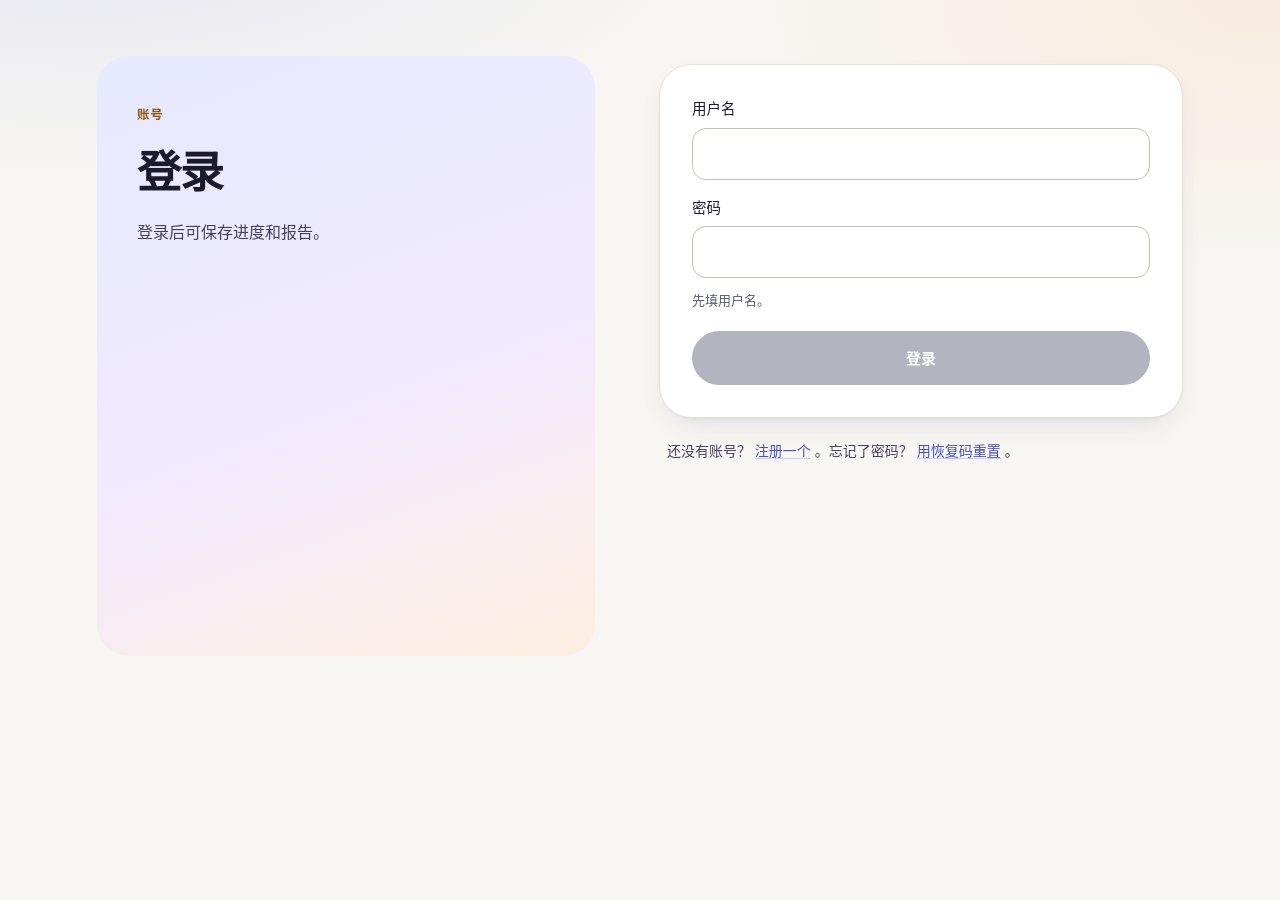
Test: 登录页 / 注册页 · 失败提示可见 › 登录失败：显示服务端口径的文案和报障编号，而且是一个真实渲染的提示块
The image size is (1280, 900).
Step 1. Type "someone" into the field named "username" → (921, 154), box [692,128,1150,180]
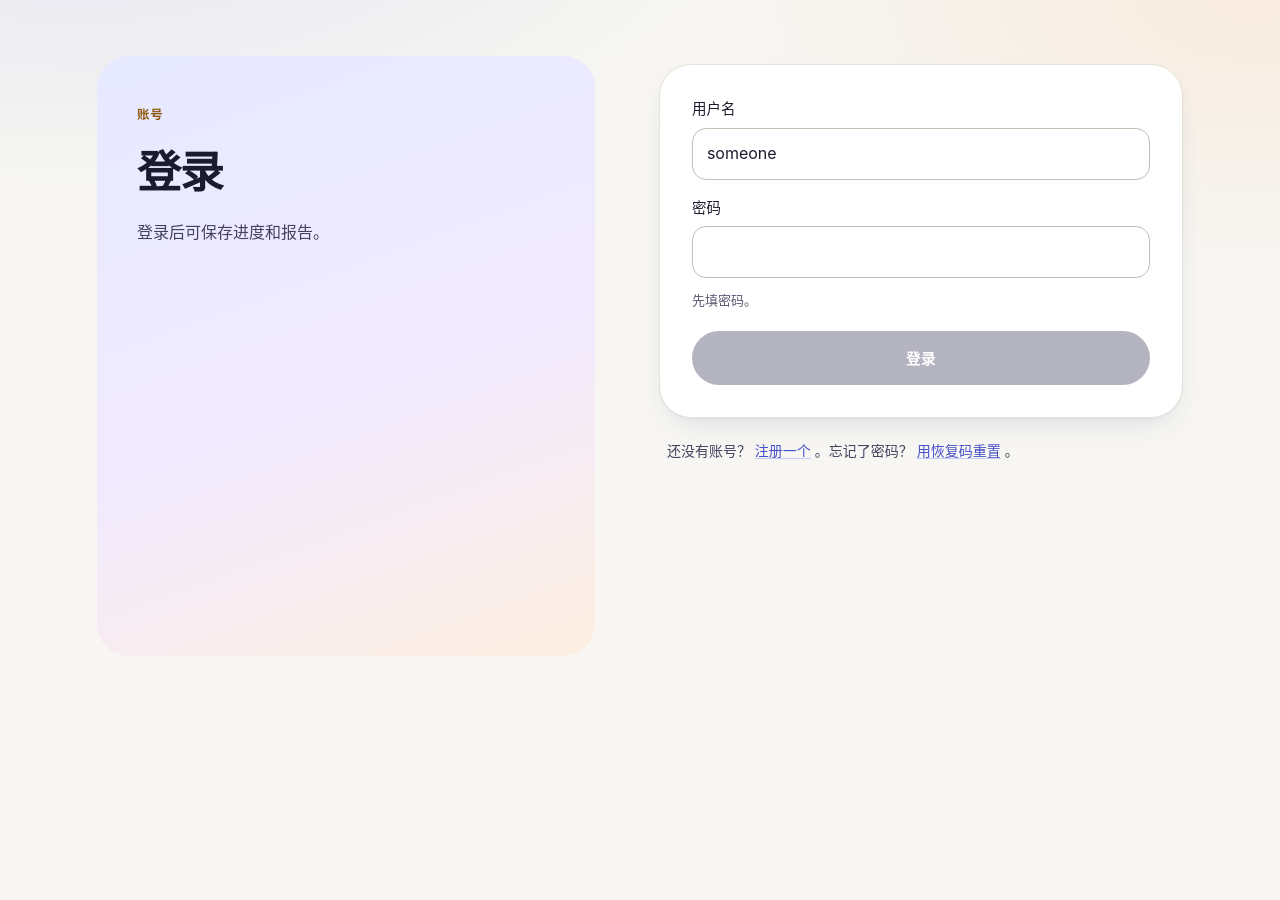
Step 2. Type "wrong-password" into the password field named "password" → (921, 252), box [692,226,1150,278]
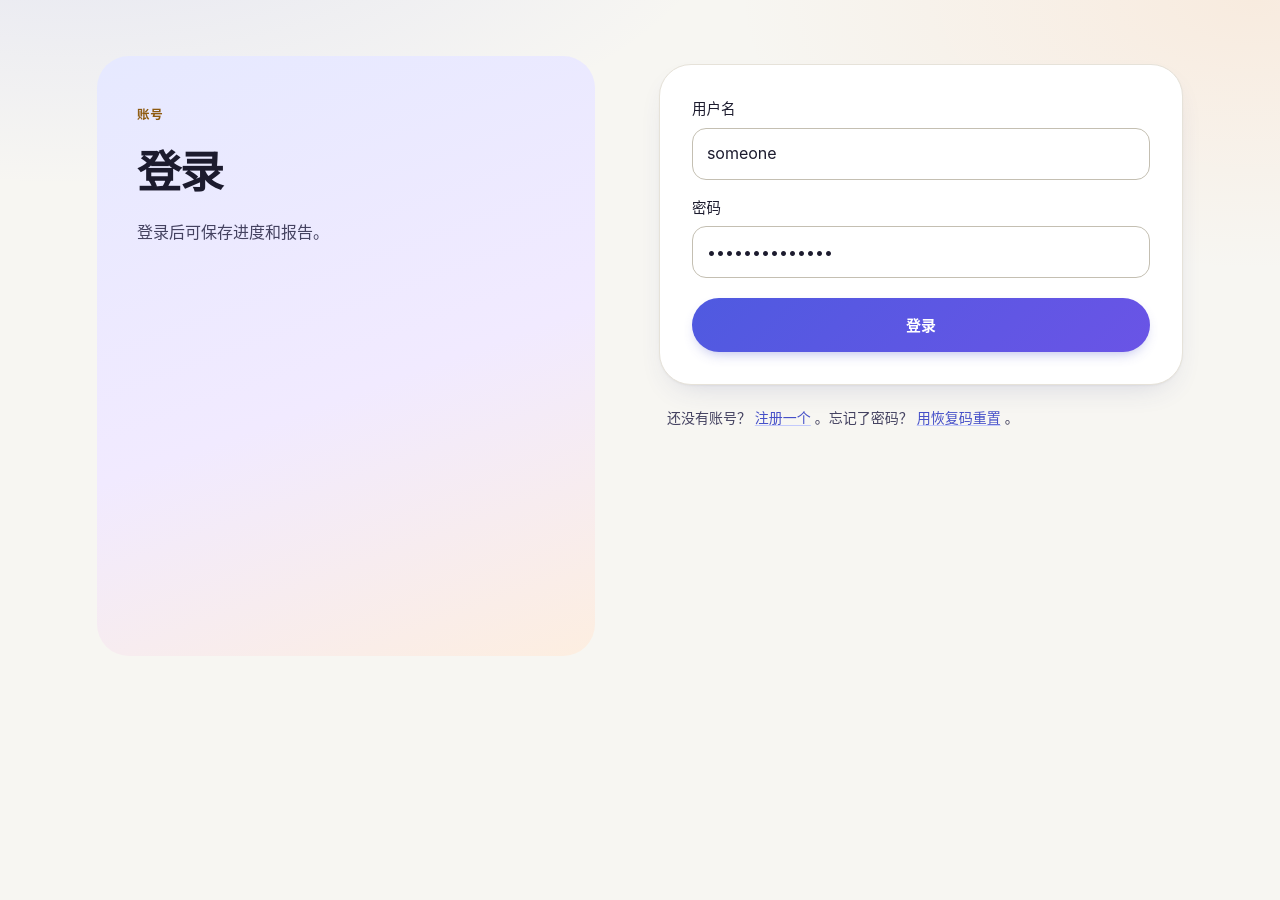
Step 3. Submit the form, box [659,64,1183,385]
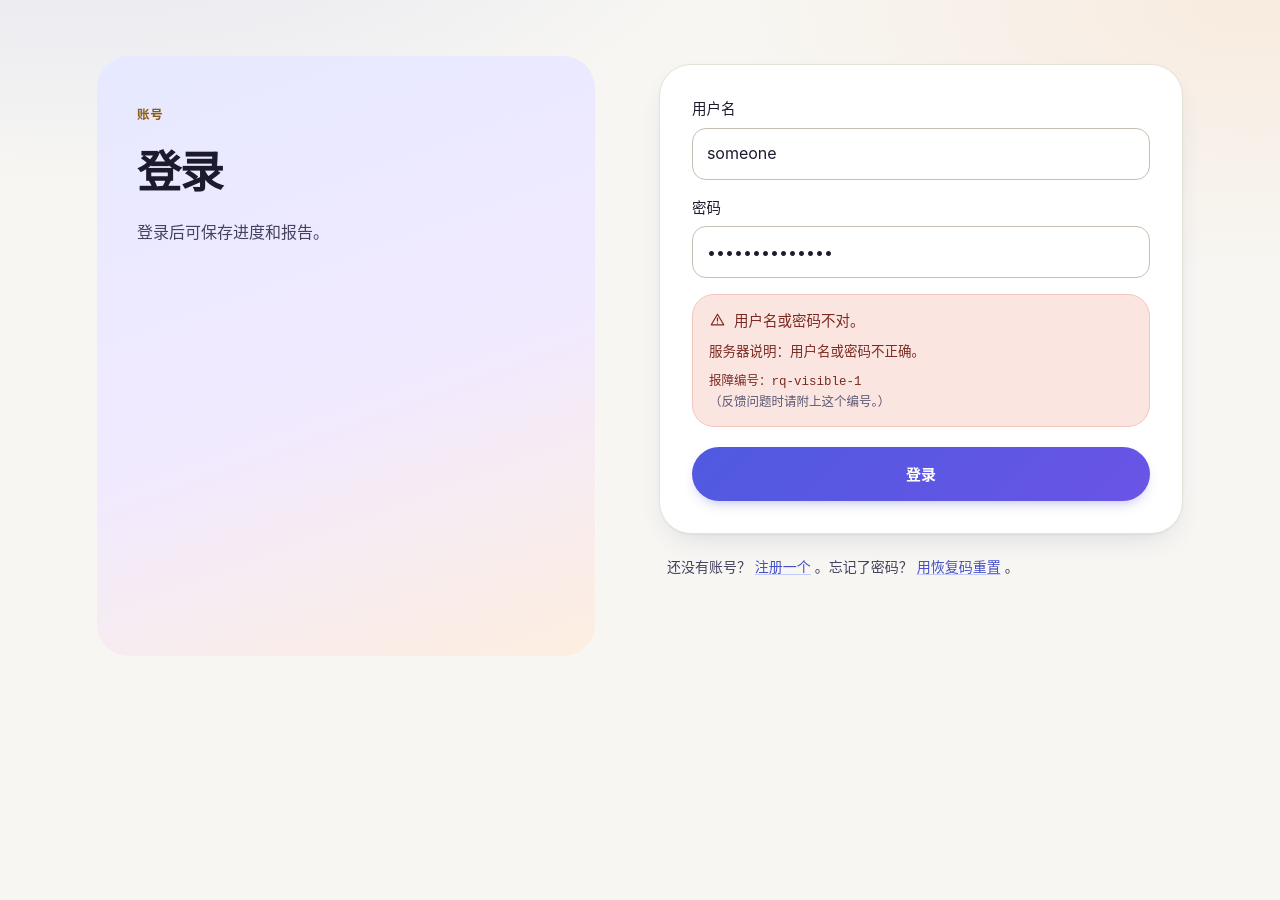
expect the message "用户名或密码不对。 服务器说明：用户名或密码不正确。 报障编号：rq-visible-1 （反馈问题时请附上这个编号。）" is shown: met, box [692,294,1150,427]
